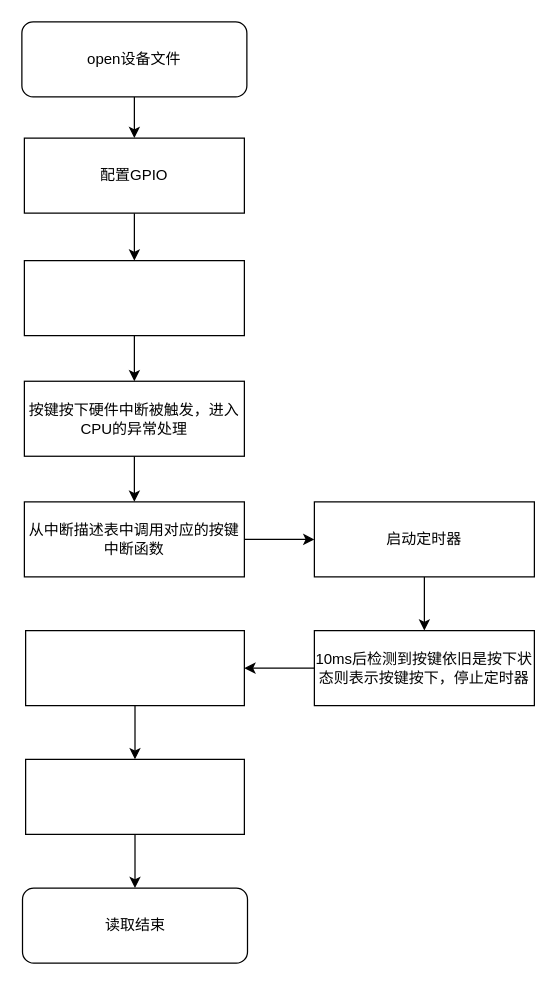
The diagram is 556 pixels wide and 985 high, and some of its shapes have lost their labels. Here are the shapes that lost their labels. From the top down, the centre of each, then its label:
the point at 133,297: 注册按键中断和定时器
the point at 134,667: 中断返回，恢复CPU上下文
the point at 134,796: 用消息队列返回按键读取结果给read函数
